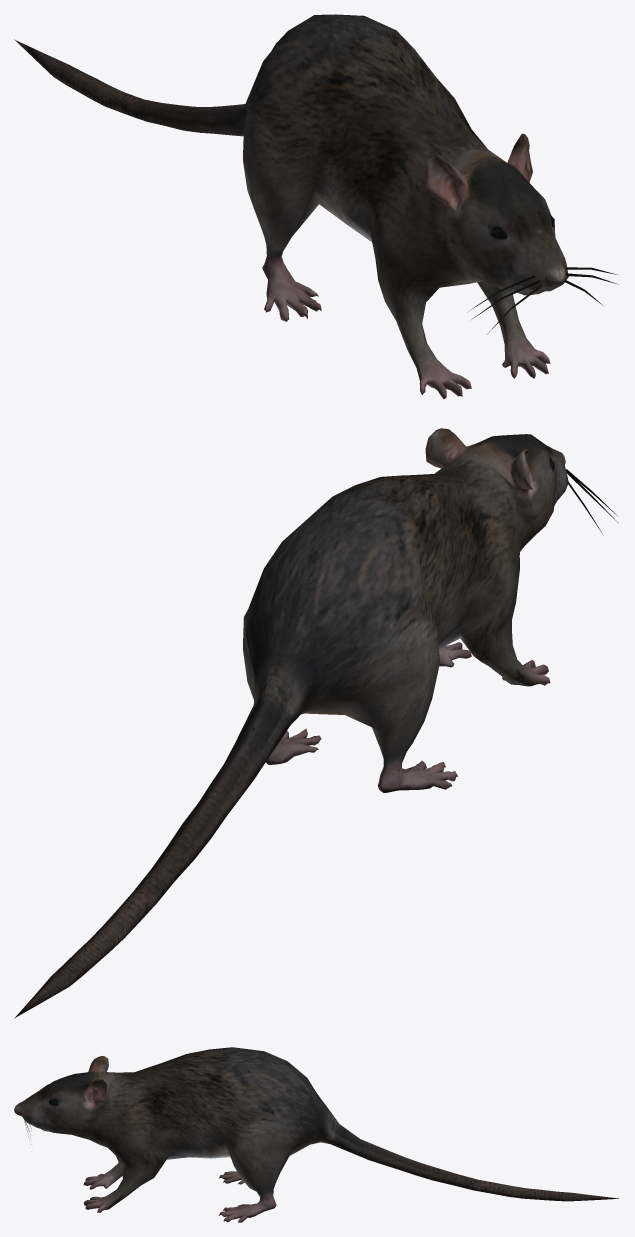
File: Rat.fbx
The picture shows the model from 3 angles, top to bottom: view 1: azimuth 30°, elevation 25°; view 2: azimuth 150°, elevation 25°; view 3: azimuth 270°, elevation 25°; orthographic projection. The views are drawn at different scales.
Parts seen in each view (by area): view 1: sm_1_0_0; view 2: sm_1_0_0; view 3: sm_1_0_0.
Boxes of the visible parts, left/top/right/bottom form: sm_1_0_0: left=14, top=14, right=618, bottom=398; sm_1_0_0: left=14, top=428, right=618, bottom=1018; sm_1_0_0: left=14, top=1047, right=619, bottom=1222.
Bounding box in the file's own units: 9.2 × 12.99 × 46.91.
1 material, 1 textured.
